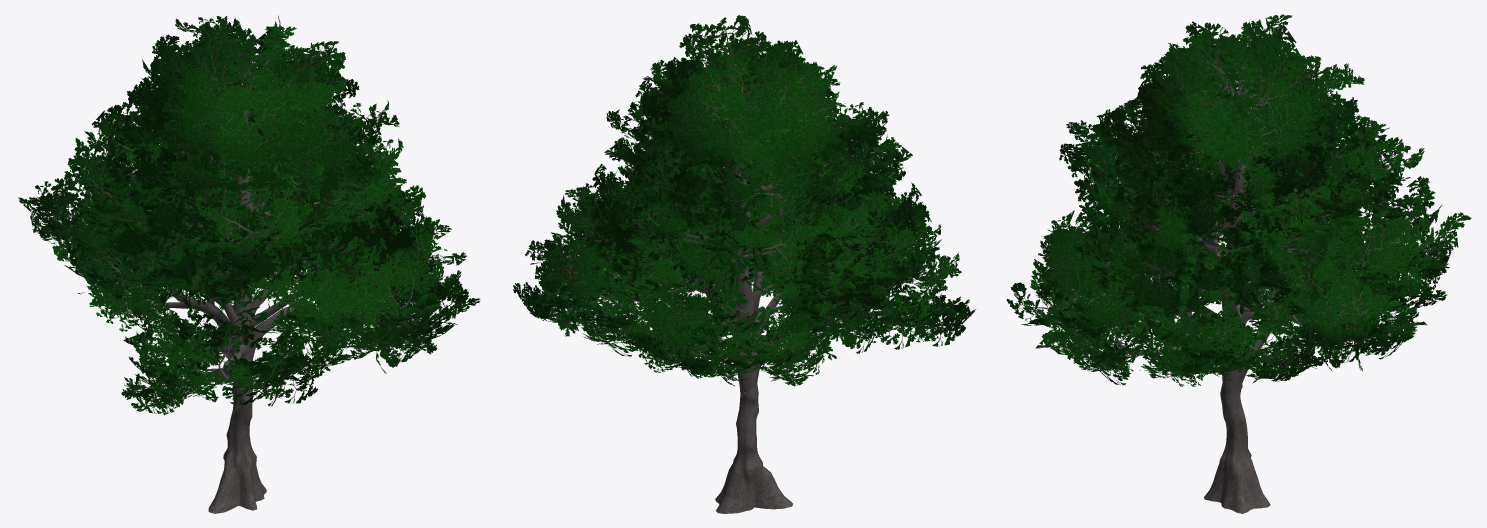
The picture shows the model from 3 angles, left to right: view 1: azimuth 30°, elevation 25°; view 2: azimuth 150°, elevation 25°; view 3: azimuth 270°, elevation 25°; orthographic projection.
Parts seen in each view (by area): view 1: SM_BM_Oak_Tree_02_LOD0; view 2: SM_BM_Oak_Tree_02_LOD0; view 3: SM_BM_Oak_Tree_02_LOD0.
Boxes of the visible parts, x1,y1,x2,y2 form: SM_BM_Oak_Tree_02_LOD0: [18, 16, 480, 513]; SM_BM_Oak_Tree_02_LOD0: [513, 15, 975, 513]; SM_BM_Oak_Tree_02_LOD0: [1006, 14, 1471, 513].
Bounding box in the file's own units: 21.24 × 25.83 × 22.71.
2 materials, 2 textured.
